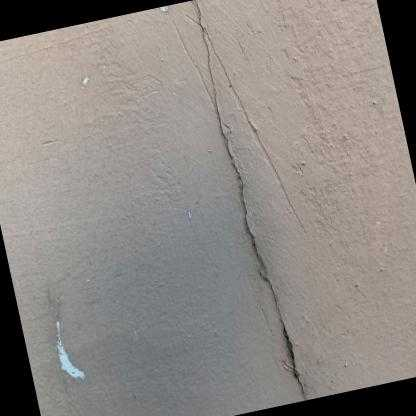crack: (193, 0, 305, 400)
